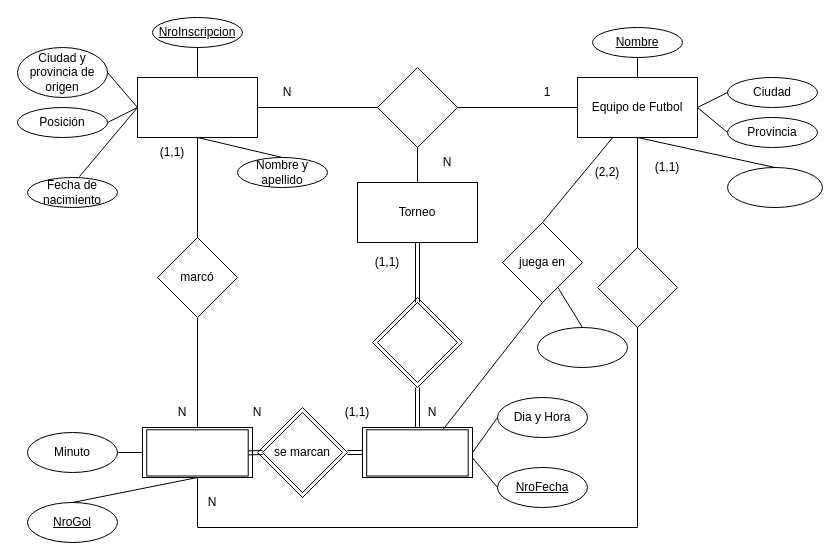
Some shapes in this 840 by 560 pixel diagram are drawn without their labels. The shapes that lost their labels are listed below. From the top down, each one's centre as x and y in pixels, then its label:
the point at 197,107: Jugador
the point at 417,107: participa en
the point at 774,187: FechaInscipcion
the point at 637,287: A favor de
the point at 417,342: Tiene
the point at 582,347: local?
the point at 197,452: Gol
the point at 417,452: Fecha
